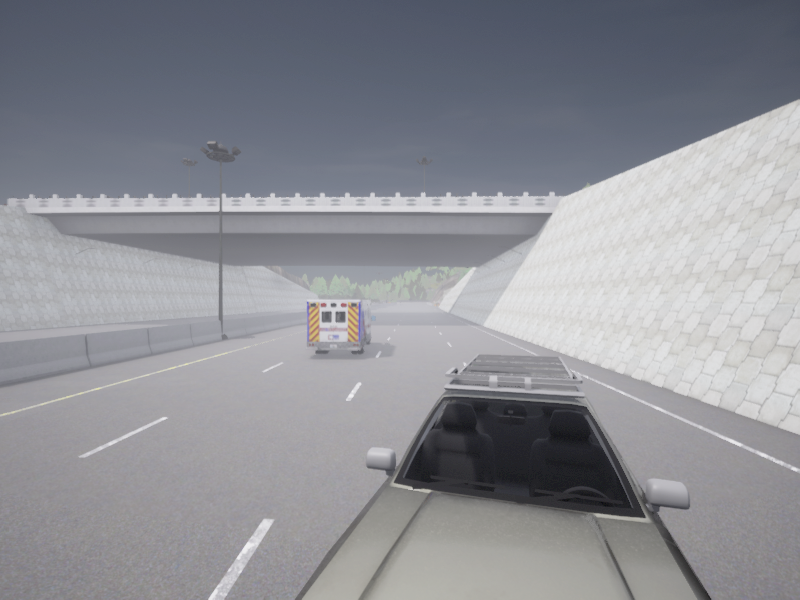vehicle: (295, 354, 711, 599), (305, 300, 375, 353)
